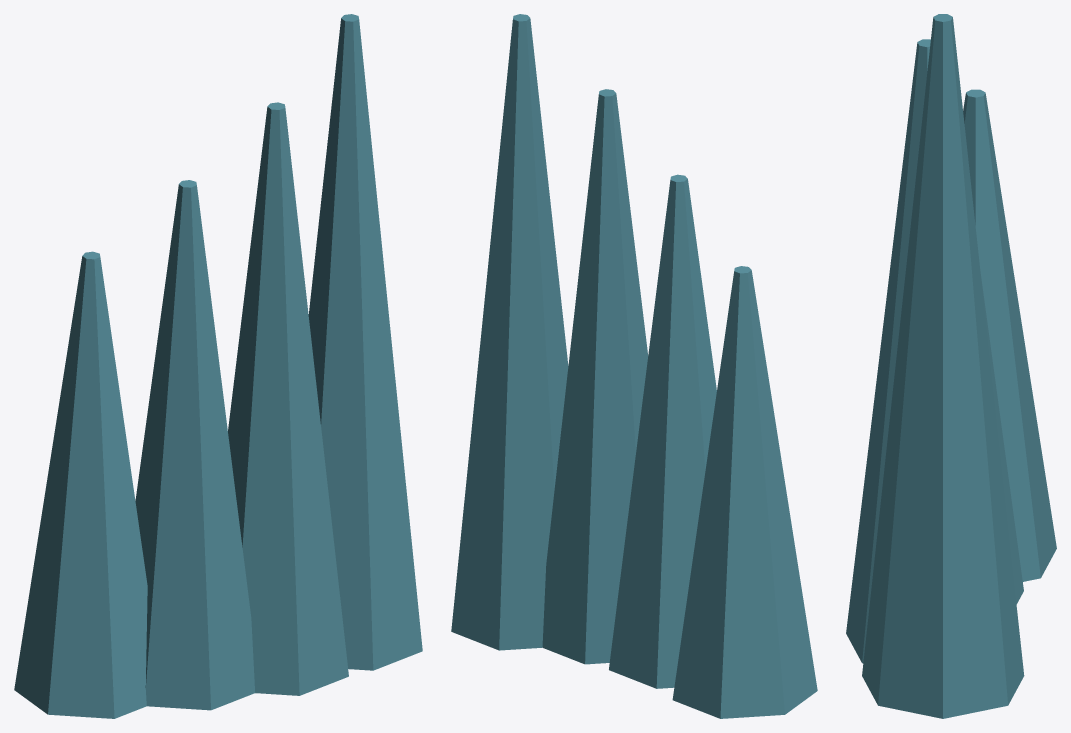
The model's file is map-boundaries-v5__frost_10.glb.
3 views of the same model, side by side, from view 1: azimuth 30°, elevation 25°; view 2: azimuth 150°, elevation 25°; view 3: azimuth 270°, elevation 25° (orthographic). The views are drawn at different scales.
Visible parts, largest first — view 1: frost_10; view 2: frost_10; view 3: frost_10.
Part boxes in pixels (bbox=[...]): frost_10: bbox=[14, 14, 422, 718]; frost_10: bbox=[451, 14, 817, 718]; frost_10: bbox=[846, 14, 1056, 718].
Size of the model in its own units: 1.6 by 2.56 by 0.7349.
